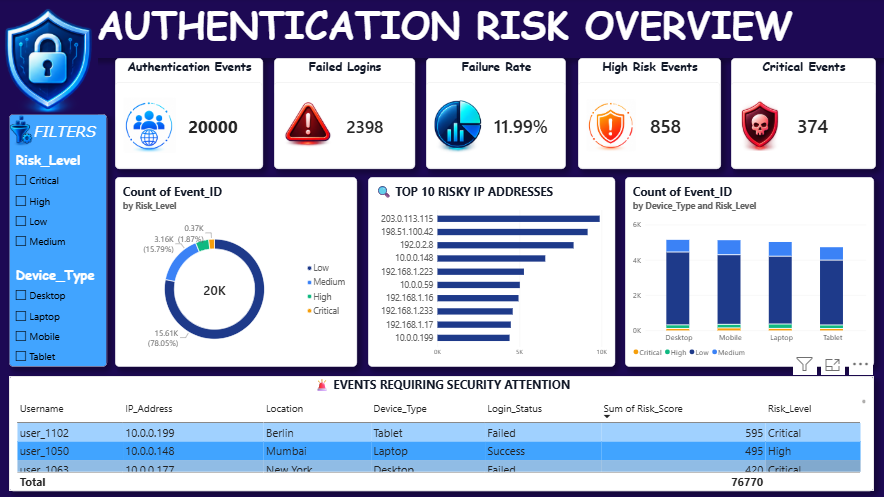

The dashboard page shown, as its layout file describes it:
{"tool":"powerbi","page":{"name":"AUTHENTICATION RISK OVERVIEW","canvas":[1920,1080],"ordinal":0},"visuals":[{"type":"textbox","box":[10.8,0,1909.4,129.6],"z":0},{"type":"cardVisual","title":"Failed Logins","fields":{"Data":["authentication_events.Failed Logins"]},"box":[596.2,129.6,304.6,239.8],"z":1000},{"type":"cardVisual","title":"Failure Rate","fields":{"Data":["authentication_events.Failure Rate"]},"box":[924.5,129.6,302.4,239.8],"z":2000},{"type":"cardVisual","title":"High Risk Events","fields":{"Data":["authentication_events.High Risk Events"]},"box":[1252.8,129.6,308.9,239.8],"z":3000},{"type":"cardVisual","title":"Critical Events","fields":{"Data":["authentication_events.Critical Events"]},"box":[1583.3,129.6,313.2,239.8],"z":4000},{"type":"cardVisual","title":"Authentication Events","fields":{"Data":["authentication_events.Total Events"]},"box":[252.7,129.6,319.7,239.8],"z":5000},{"type":"donutChart","fields":{"Category":["authentication_events.Risk_Level"],"Y":["CountNonNull(authentication_events.Event_ID)"]},"box":[252.7,386.6,522.7,410.4],"z":6000},{"type":"clusteredBarChart","title":"🔍 TOP 10 RISKY IP ADDRESSES","fields":{"Category":["authentication_events.IP_Address"],"Y":["Sum(authentication_events.Risk_Score)"]},"box":[799.2,386.6,533.5,410.4],"z":7000},{"type":"columnChart","fields":{"Category":["authentication_events.Device_Type"],"Y":["CountNonNull(authentication_events.Event_ID)"],"Series":["authentication_events.Risk_Level"]},"box":[1354.3,386.6,537.8,410.4],"z":8000},{"type":"tableEx","title":"🚨 EVENTS REQUIRING SECURITY ATTENTION","fields":{"Values":["authentication_events.Username","authentication_events.IP_Address","authentication_events.Location","authentication_events.Device_Type","authentication_events.Login_Status","Sum(authentication_events.Risk_Score)","authentication_events.Risk_Level"]},"box":[23.8,816.5,1868.4,249],"z":9000},{"type":"shape","box":[23.8,250.6,211.7,546.5],"z":10000},{"type":"slicer","fields":{"Values":["authentication_events.Risk_Level"]},"box":[30.2,330.5,170.6,229],"z":11000},{"type":"slicer","fields":{"Values":["authentication_events.Device_Type"]},"box":[30.2,578.9,198.7,218.2],"z":12000},{"type":"image","box":[0,0,216,250.6],"z":14000},{"type":"image","box":[0,250.6,105.8,71.3],"z":15000},{"type":"textbox","box":[77.8,267.8,157.7,62.6],"z":16000}]}

Visuals, with their boxes in screenshot pixels (x1, y1, x2, y2), scaled from the page's 1920x1080 canvas onto the 884x497 screenshot:
textbox: pyautogui.locateOnScreen(5, 0, 883, 60)
"Failed Logins" cardVisual: pyautogui.locateOnScreen(275, 60, 415, 170)
"Failure Rate" cardVisual: pyautogui.locateOnScreen(426, 60, 565, 170)
"High Risk Events" cardVisual: pyautogui.locateOnScreen(577, 60, 719, 170)
"Critical Events" cardVisual: pyautogui.locateOnScreen(729, 60, 873, 170)
"Authentication Events" cardVisual: pyautogui.locateOnScreen(116, 60, 264, 170)
donutChart - authentication_events.Risk_Level x CountNonNull(authentication_events.Event_ID): pyautogui.locateOnScreen(116, 178, 357, 367)
"🔍 TOP 10 RISKY IP ADDRESSES" clusteredBarChart: pyautogui.locateOnScreen(368, 178, 614, 367)
columnChart - authentication_events.Device_Type x CountNonNull(authentication_events.Event_ID): pyautogui.locateOnScreen(624, 178, 871, 367)
"🚨 EVENTS REQUIRING SECURITY ATTENTION" tableEx: pyautogui.locateOnScreen(11, 376, 871, 490)
shape: pyautogui.locateOnScreen(11, 115, 108, 367)
slicer - authentication_events.Risk_Level: pyautogui.locateOnScreen(14, 152, 92, 257)
slicer - authentication_events.Device_Type: pyautogui.locateOnScreen(14, 266, 105, 367)
image: pyautogui.locateOnScreen(0, 0, 99, 115)
image: pyautogui.locateOnScreen(0, 115, 49, 148)
textbox: pyautogui.locateOnScreen(36, 123, 108, 152)
